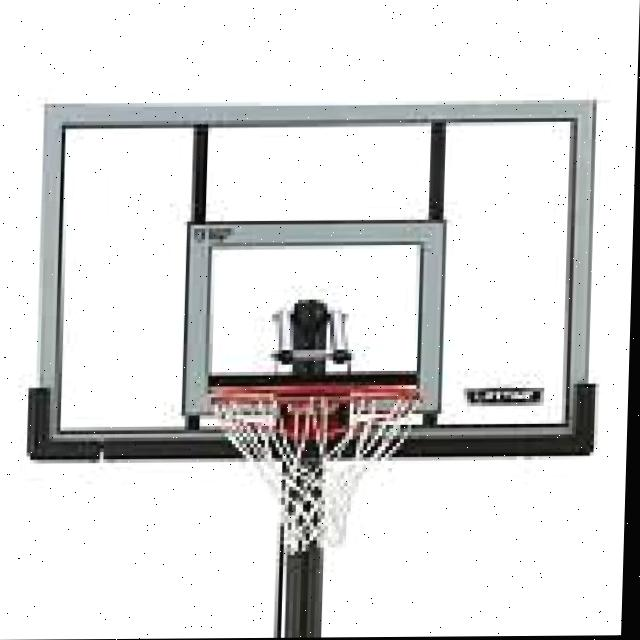hoop: (179, 349, 486, 557)
